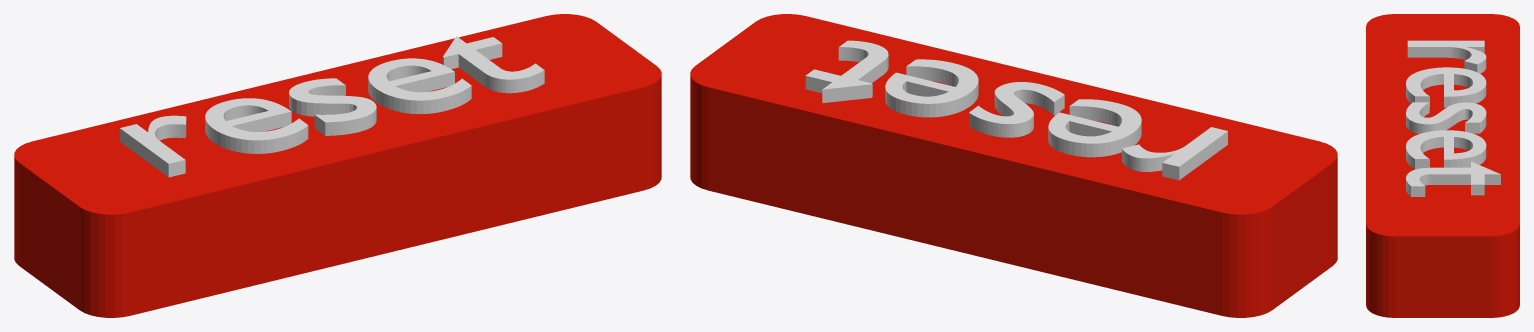
The model's file is reset.fbx.
The picture shows the model from 3 angles, left to right: view 1: azimuth 30°, elevation 25°; view 2: azimuth 150°, elevation 25°; view 3: azimuth 270°, elevation 25°; orthographic projection. The views are drawn at different scales.
Visible parts, largest first — view 1: Text.005; view 2: Text.005; view 3: Text.005.
Part boxes in pixels (x1,y1,x2,y2): Text.005: [14, 14, 661, 317]; Text.005: [690, 14, 1337, 317]; Text.005: [1366, 14, 1519, 317].
Size of the model in its own units: 112 by 21.77 by 32.85.
